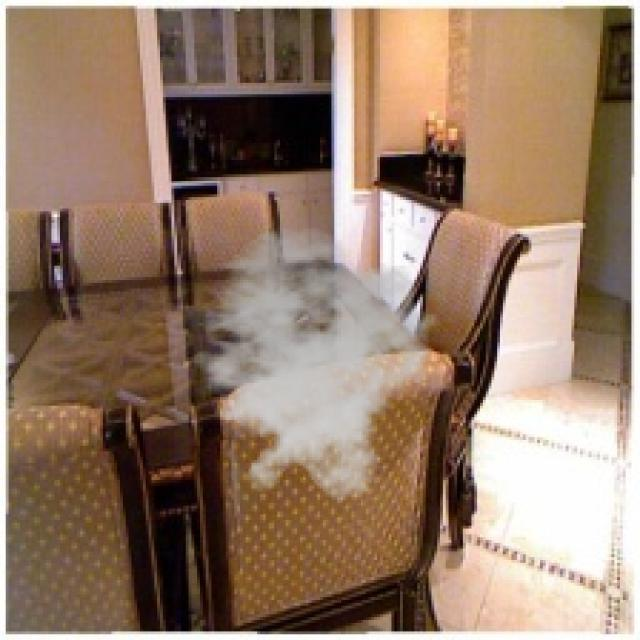Smoke: (174, 226, 446, 503)
